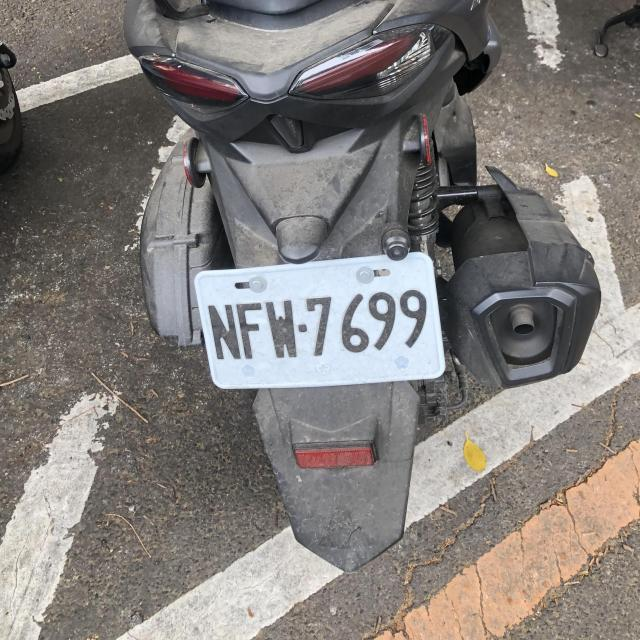W: (193, 252, 445, 392)
